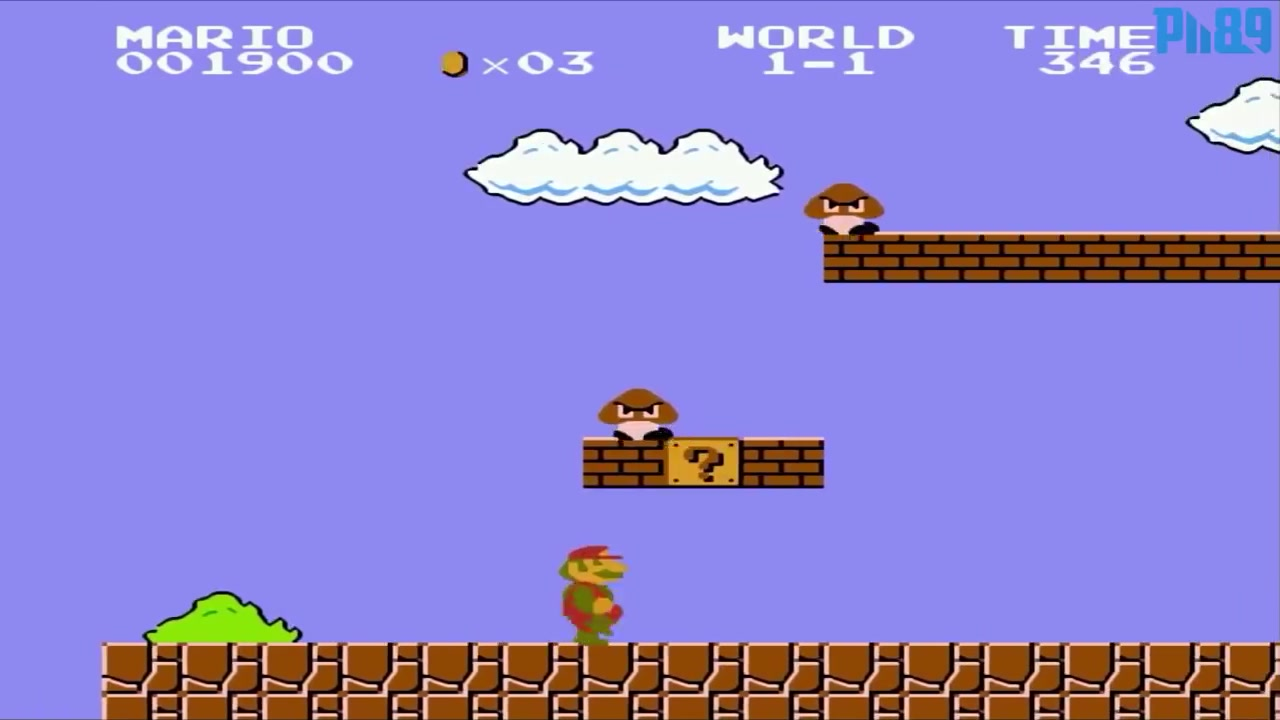mario: (540, 533, 649, 644)
